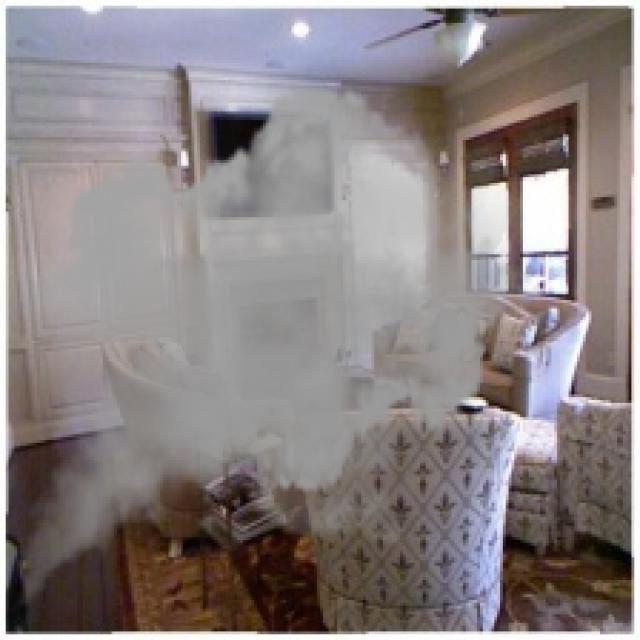Smoke: (3, 72, 546, 638)
